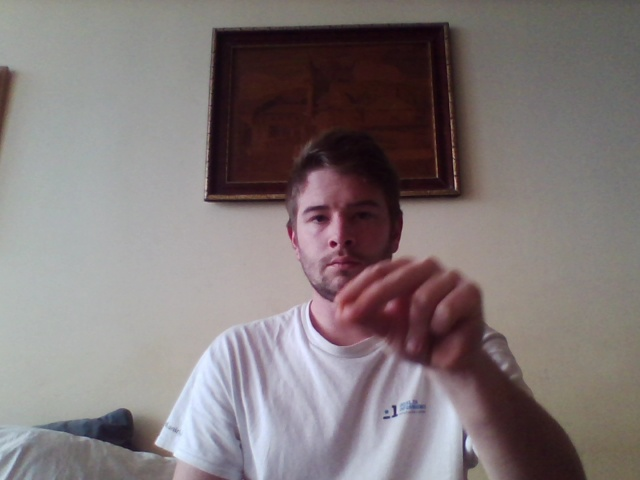ne: (334, 251, 488, 376)
